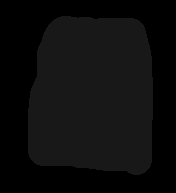fp: (23, 12, 161, 175)
